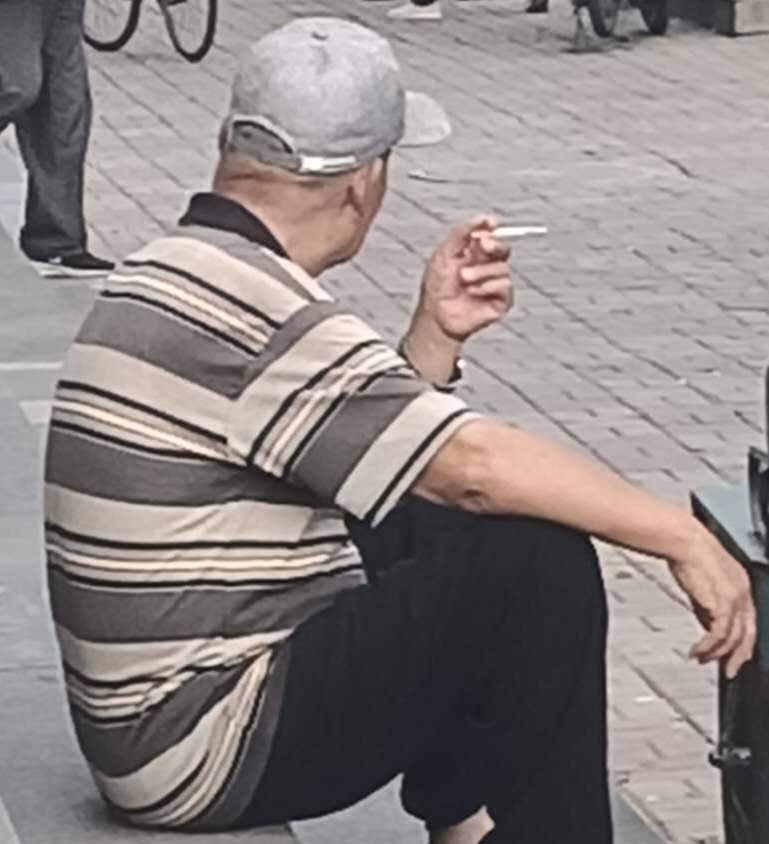smoke: (469, 224, 550, 241)
